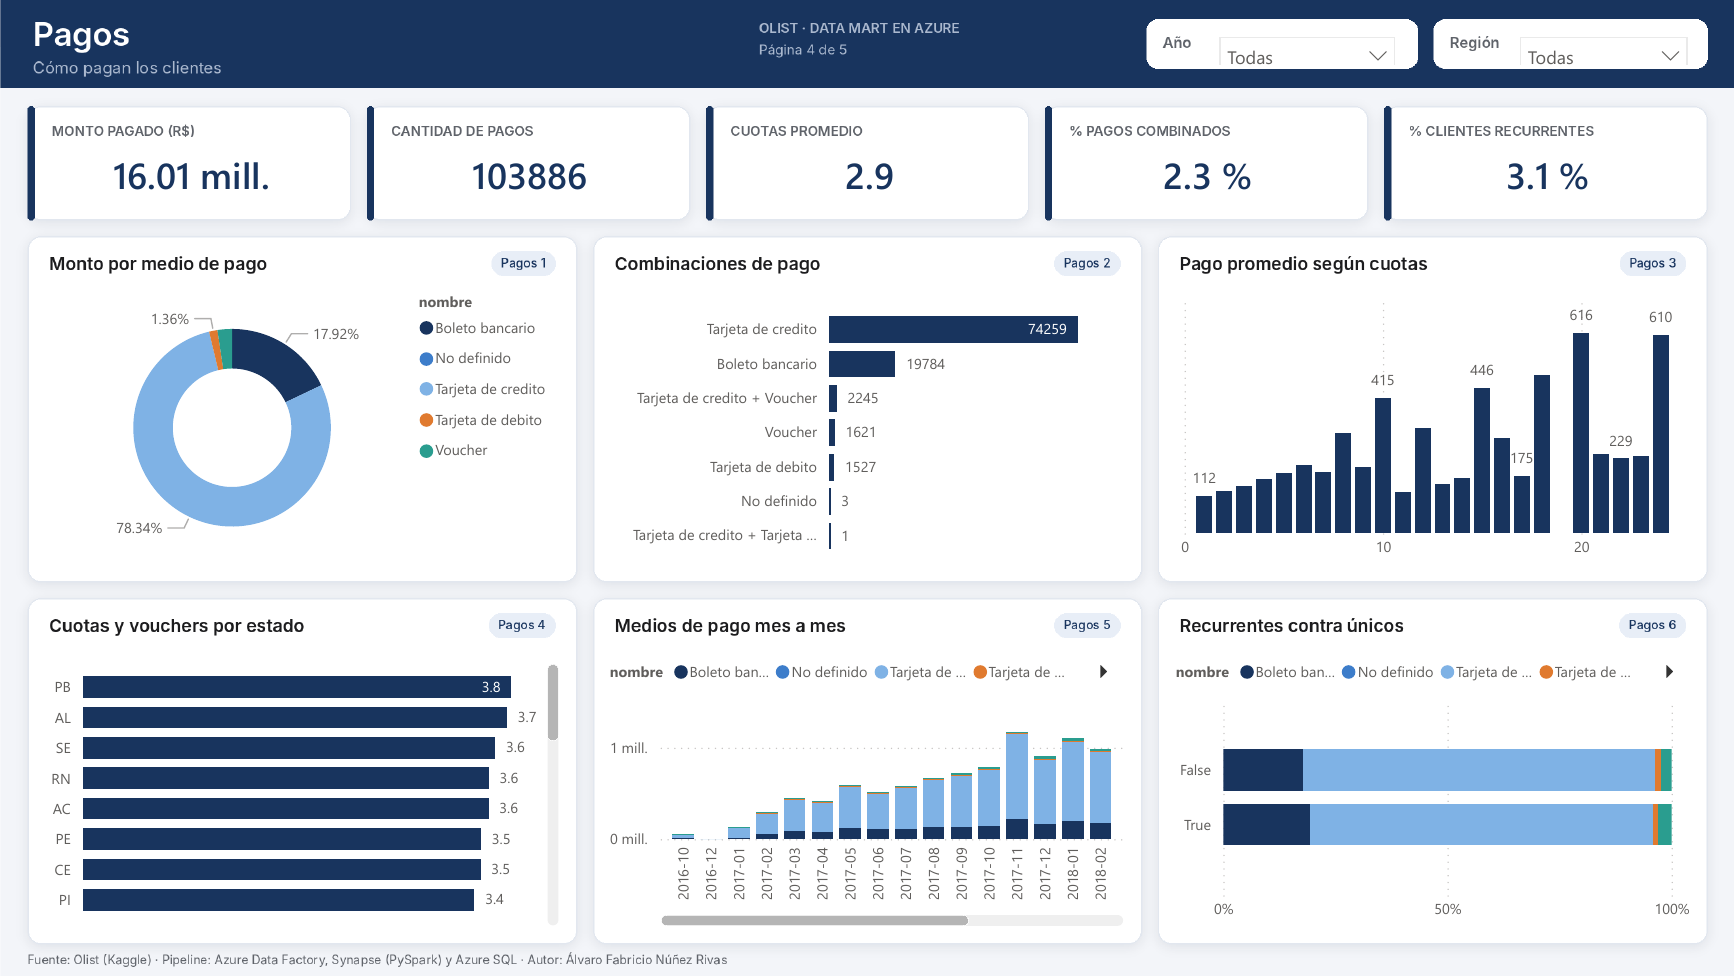

The page's visual inventory and layout, read from the dashboard file:
{"tool":"powerbi","page":{"name":"Pagos","canvas":[1280,720],"ordinal":3},"visuals":[{"type":"slicer","fields":{"Values":["dim_fecha.anio"]},"box":[890,17,150,30],"z":0},{"type":"slicer","fields":{"Values":["dim_ubicacion.region"]},"box":[1112,17,144,30],"z":1},{"type":"card","fields":{"Values":["_Medidas.Monto pagado"]},"box":[28,100,226,60],"z":2},{"type":"card","fields":{"Values":["_Medidas.Cantidad de pagos"]},"box":[278,100,226,60],"z":3},{"type":"card","fields":{"Values":["_Medidas.Cuotas promedio"]},"box":[529,100,226,60],"z":4},{"type":"card","fields":{"Values":["_Medidas.% Pagos combinados"]},"box":[779,100,226,60],"z":5},{"type":"card","fields":{"Values":["_Medidas.% Clientes recurrentes"]},"box":[1030,100,226,60],"z":6},{"type":"donutChart","fields":{"Category":["dim_medio_pago.nombre"],"Y":["_Medidas.Monto pagado"]},"box":[28,210,389,211],"z":7},{"type":"clusteredBarChart","fields":{"Category":["v_combinacion_pago.combinacion"],"Y":["_Medidas.Pedidos con pago"]},"box":[445,210,389,211],"z":8},{"type":"clusteredColumnChart","fields":{"Category":["fact_pagos.cuotas"],"Y":["_Medidas.Pago promedio"]},"box":[863,210,389,211],"z":9},{"type":"clusteredBarChart","fields":{"Category":["dim_ubicacion.estado"],"Y":["_Medidas.Cuotas promedio"]},"box":[28,477,389,211],"z":10},{"type":"columnChart","fields":{"Category":["dim_fecha.anio_mes"],"Series":["dim_medio_pago.nombre"],"Y":["_Medidas.Monto pagado"]},"box":[445,477,389,211],"z":11},{"type":"hundredPercentStackedBarChart","fields":{"Category":["dim_cliente.es_recurrente"],"Series":["dim_medio_pago.nombre"],"Y":["_Medidas.Monto pagado"]},"box":[863,477,389,211],"z":12}]}

Visuals, with their boxes in screenshot pixels (x1, y1, x2, y2), scaled from the page's 1280x720 canvas onto the 1734x976 screenshot:
slicer - dim_fecha.anio: [x1=1206, y1=23, x2=1409, y2=64]
slicer - dim_ubicacion.region: [x1=1506, y1=23, x2=1701, y2=64]
card - _Medidas.Monto pagado: [x1=38, y1=136, x2=344, y2=217]
card - _Medidas.Cantidad de pagos: [x1=377, y1=136, x2=683, y2=217]
card - _Medidas.Cuotas promedio: [x1=717, y1=136, x2=1023, y2=217]
card - _Medidas.% Pagos combinados: [x1=1055, y1=136, x2=1361, y2=217]
card - _Medidas.% Clientes recurrentes: [x1=1395, y1=136, x2=1701, y2=217]
donutChart - dim_medio_pago.nombre x _Medidas.Monto pagado: [x1=38, y1=285, x2=565, y2=571]
clusteredBarChart - v_combinacion_pago.combinacion x _Medidas.Pedidos con pago: [x1=603, y1=285, x2=1130, y2=571]
clusteredColumnChart - fact_pagos.cuotas x _Medidas.Pago promedio: [x1=1169, y1=285, x2=1696, y2=571]
clusteredBarChart - dim_ubicacion.estado x _Medidas.Cuotas promedio: [x1=38, y1=647, x2=565, y2=933]
columnChart - dim_fecha.anio_mes x dim_medio_pago.nombre: [x1=603, y1=647, x2=1130, y2=933]
hundredPercentStackedBarChart - dim_cliente.es_recurrente x dim_medio_pago.nombre: [x1=1169, y1=647, x2=1696, y2=933]
